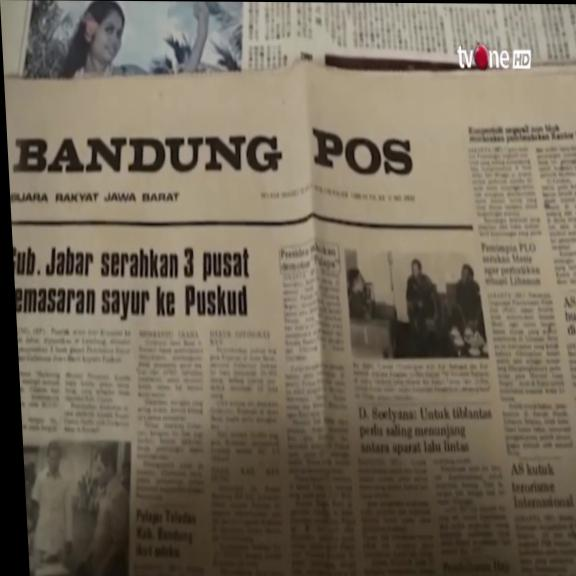Kertas: (12, 228, 318, 575), (14, 54, 576, 230), (333, 227, 515, 571), (465, 129, 576, 394)
